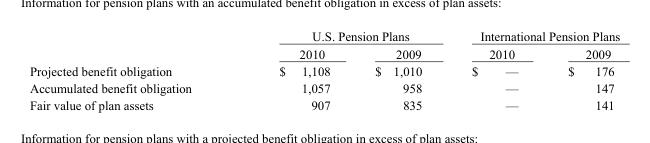table: (28, 28, 619, 112)
table column: (28, 28, 234, 112), (234, 28, 351, 112), (446, 28, 542, 112), (351, 28, 446, 112), (542, 28, 619, 112)
table column header: (28, 28, 619, 62)
table row: (28, 44, 619, 62), (28, 62, 619, 79), (28, 79, 619, 96), (28, 28, 619, 44), (28, 96, 619, 112)
table spanning cell: (234, 28, 446, 44), (446, 28, 619, 44)
